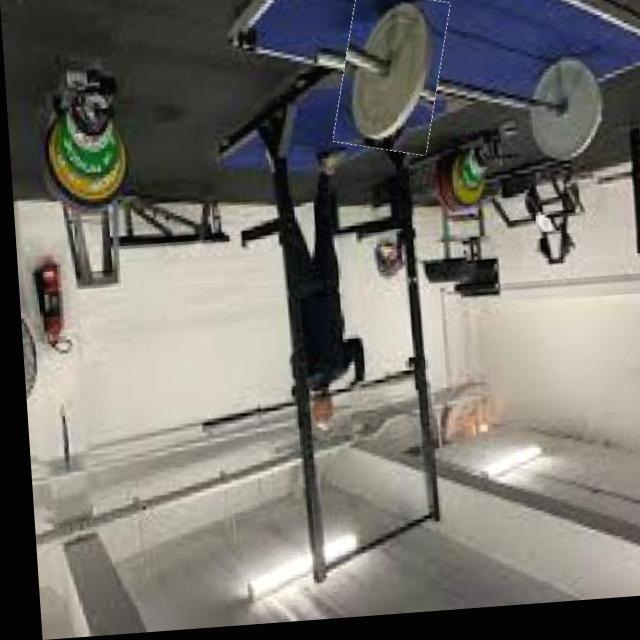barbell: (331, 1, 450, 163)
